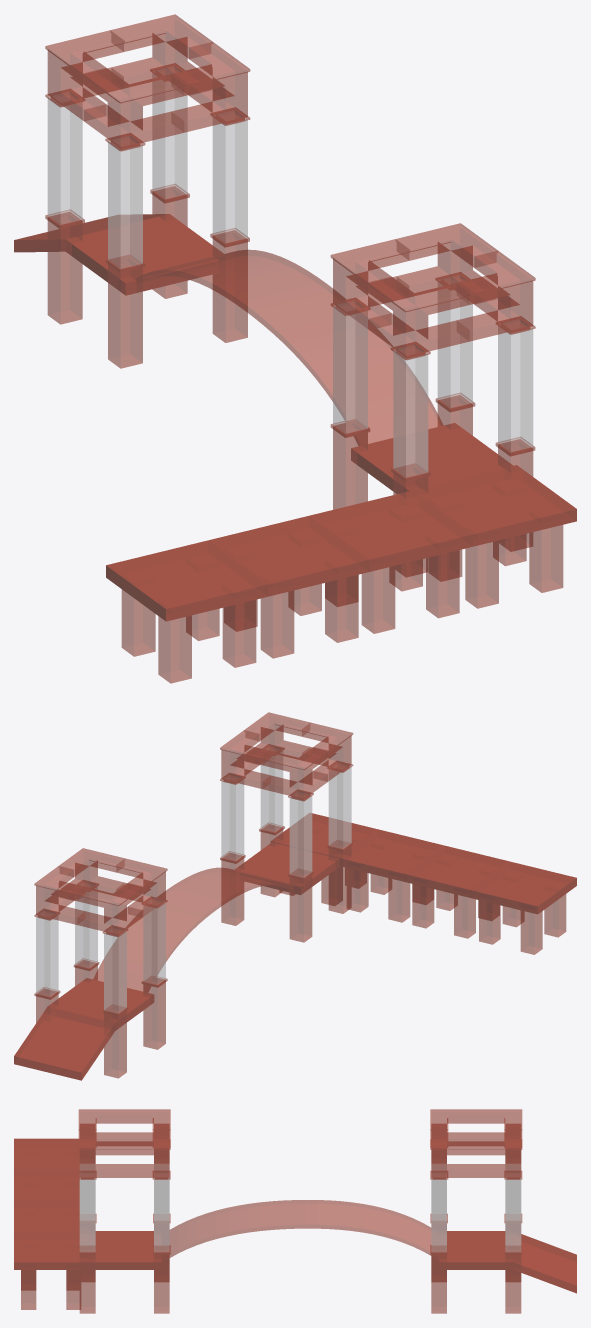
File: Bridge.fbx
3 views of the same model, one above another, from view 1: azimuth 30°, elevation 25°; view 2: azimuth 150°, elevation 25°; view 3: azimuth 270°, elevation 25° (orthographic). The views are drawn at different scales.
Parts seen in each view (by area): view 1: 2Bridge; view 2: 2Bridge; view 3: 2Bridge.
Boxes of the visible parts, x1=… form: 2Bridge: x1=14, y1=14, x2=576, y2=683; 2Bridge: x1=14, y1=712, x2=576, y2=1080; 2Bridge: x1=14, y1=1109, x2=576, y2=1313.
Size of the model in its own units: 2136 by 1312 by 4006.
